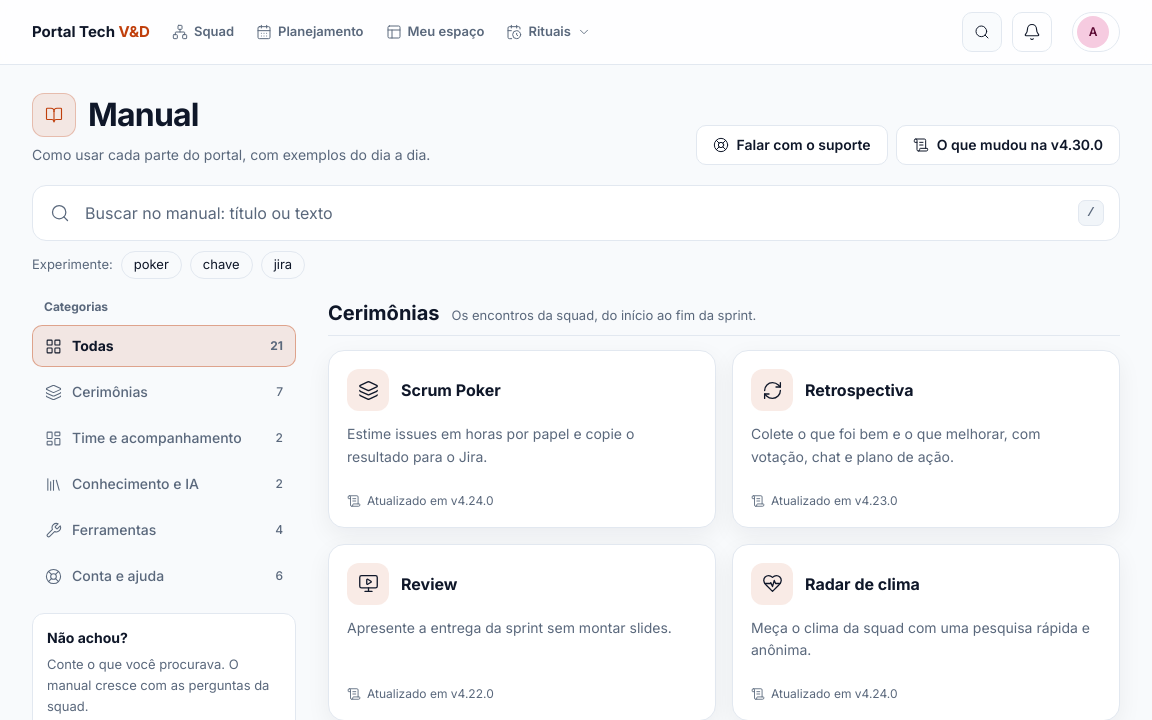
Test: índice do Manual › categoria filtra a lista e "Todas" volta
Step 1. Click the button "Conta e ajuda 6" → x=164, y=576, box [32,555,296,597]
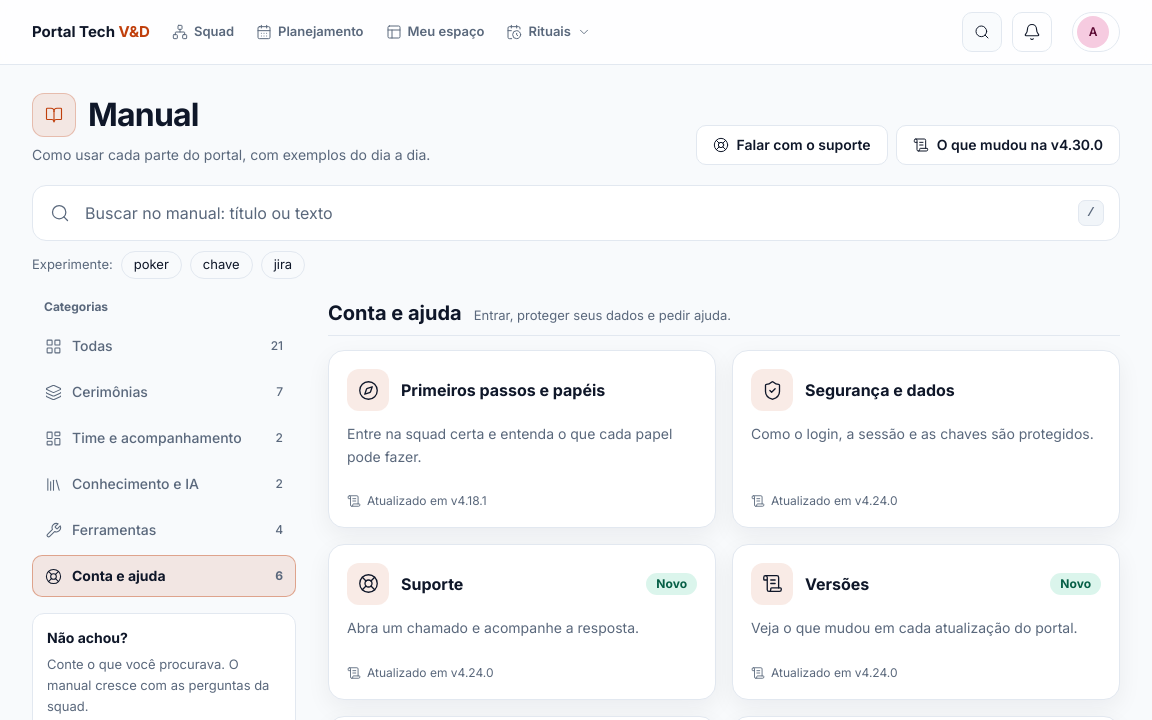
Expected: the heading "Conta e ajuda" is shown, [328,299,462,327]
Step 2. Click the button "Todas 21" → x=92, y=346, box [32,325,296,367]
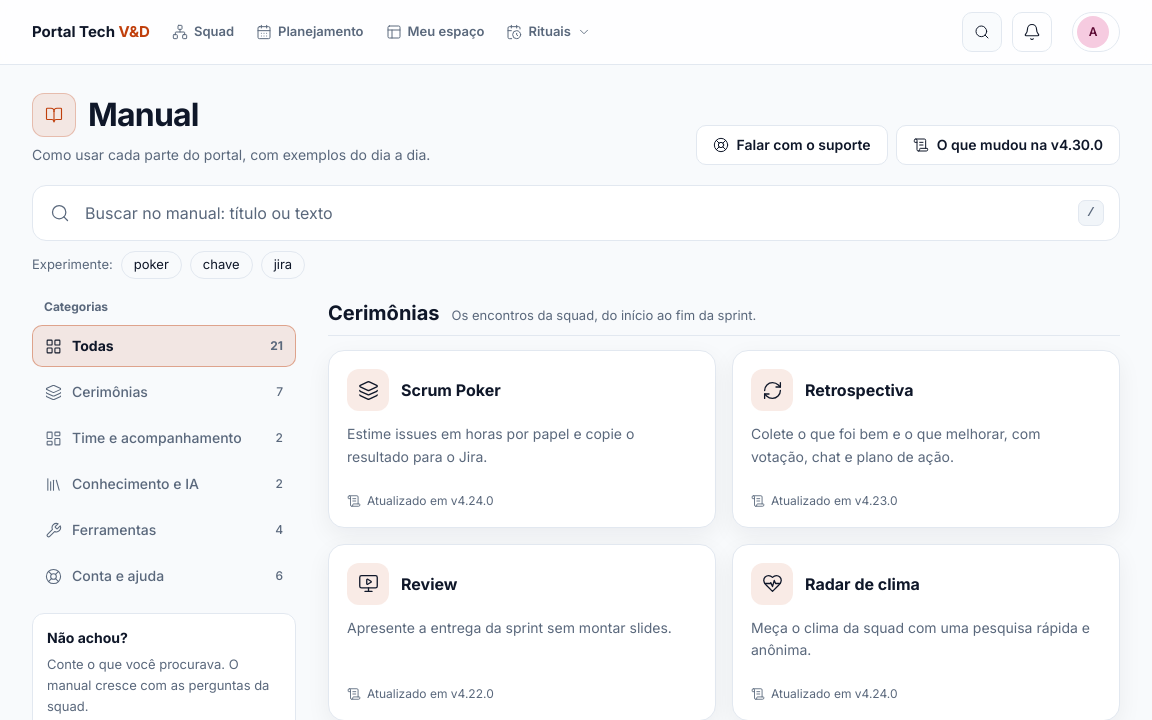
Expected: the heading "Cerimônias" is shown, [328,299,440,327]
